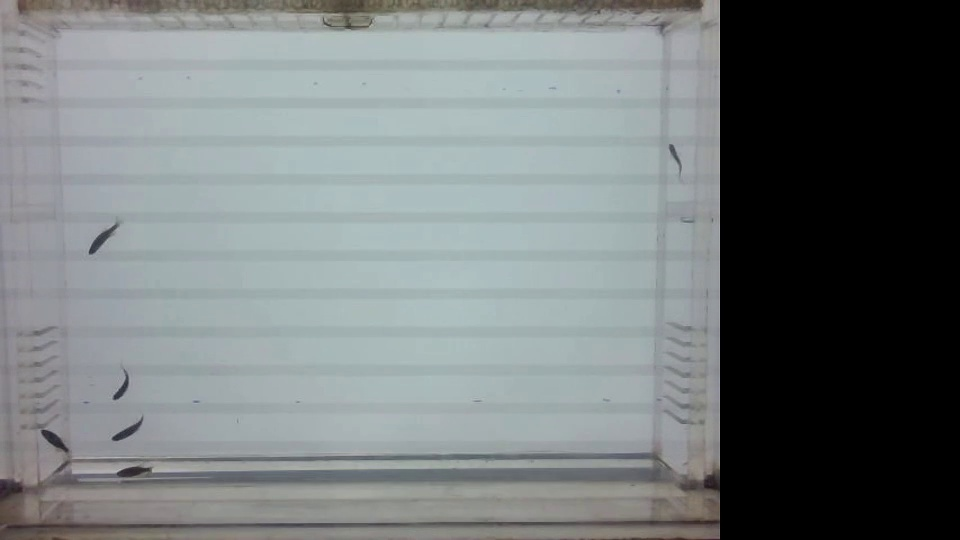fish: (30, 417, 76, 454), (100, 417, 153, 448), (84, 216, 124, 257), (108, 364, 142, 410), (112, 460, 158, 485), (665, 138, 685, 184)
